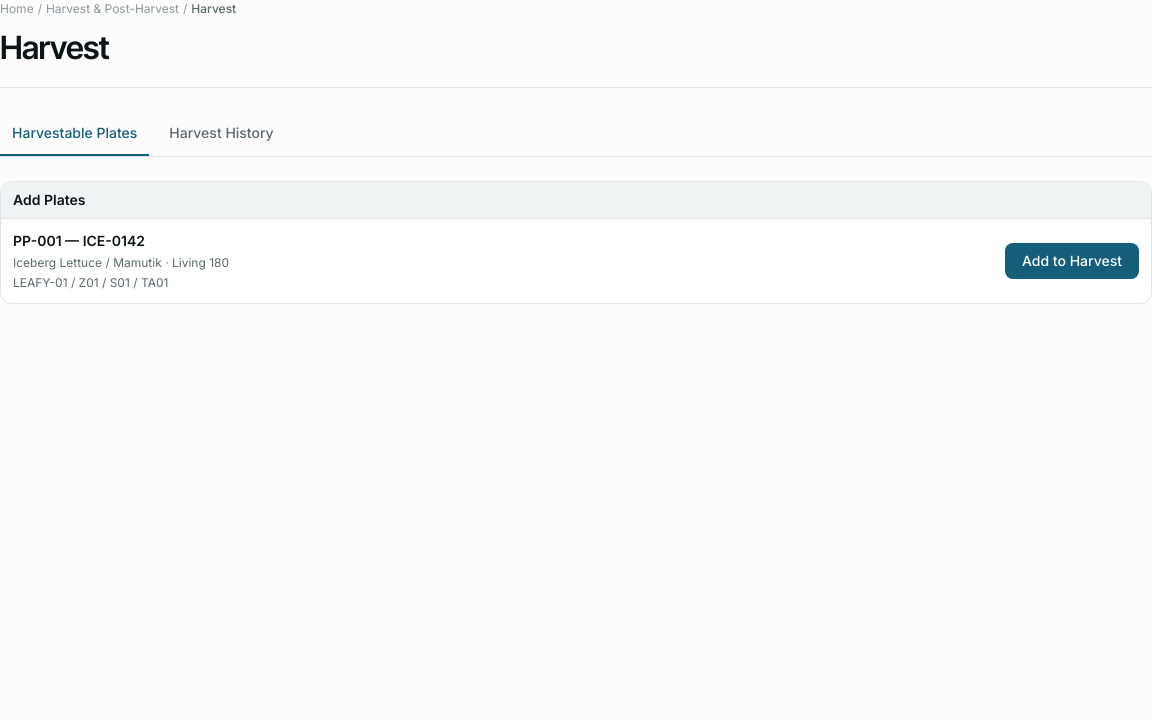
Test case: LeafyHarvestPage › shows the population-release wording without implying the Plate was moved
Expected: the text "PP-001 — ICE-0142" is shown, [13,232,145,249]
Click the button "Add to Harvest" at (1072, 261), box [1005,243,1139,279]
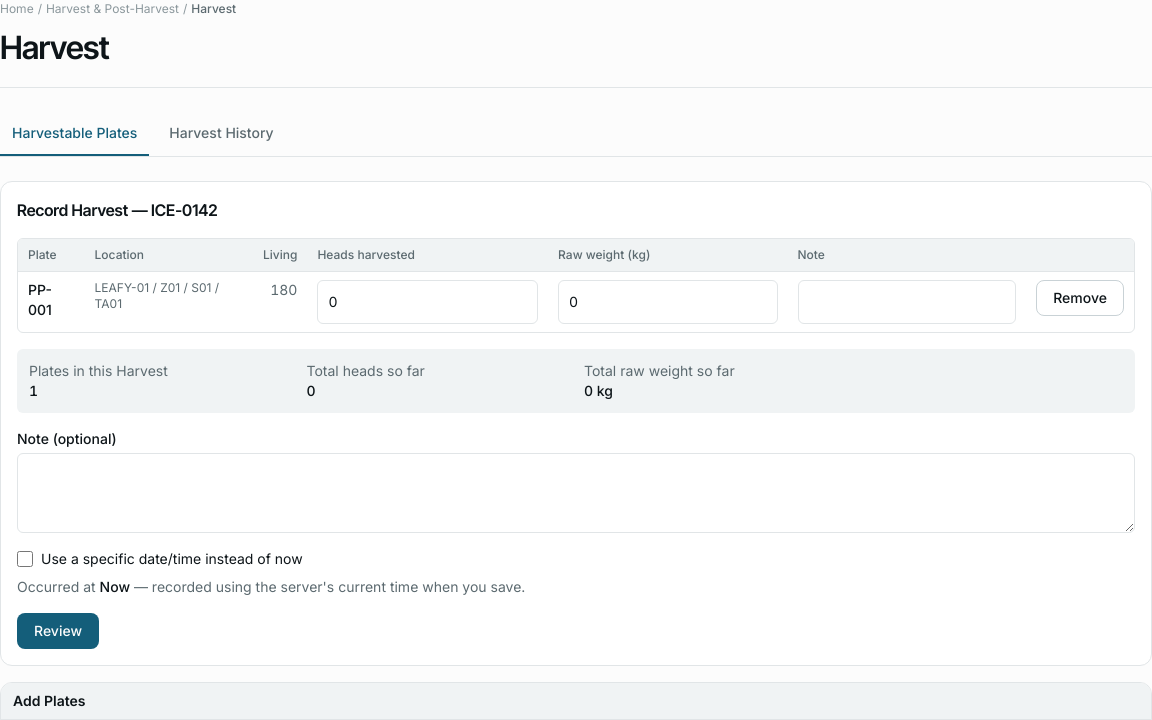
Expected: the number field named "heads harvested" is shown
Replace the text in the number field named "heads harvested" with "180" at (428, 302), box [317,280,538,324]
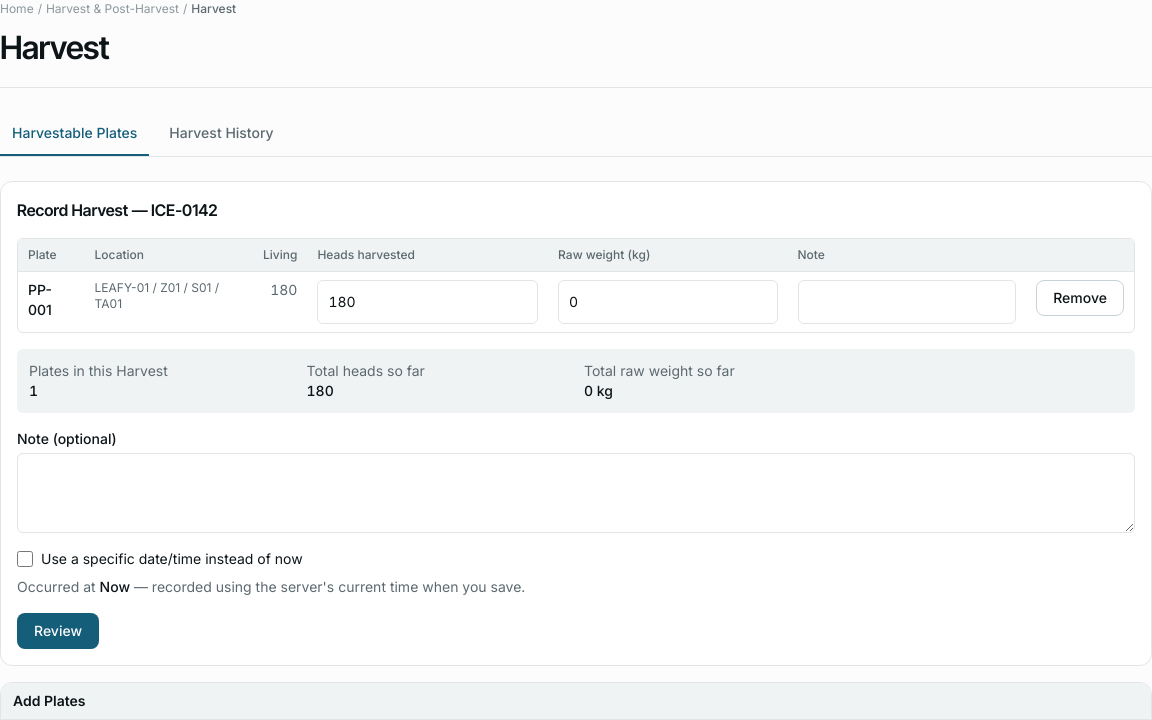
Replace the text in the number field named "raw harvested weight" with "90" at (668, 302), box [558,280,778,324]
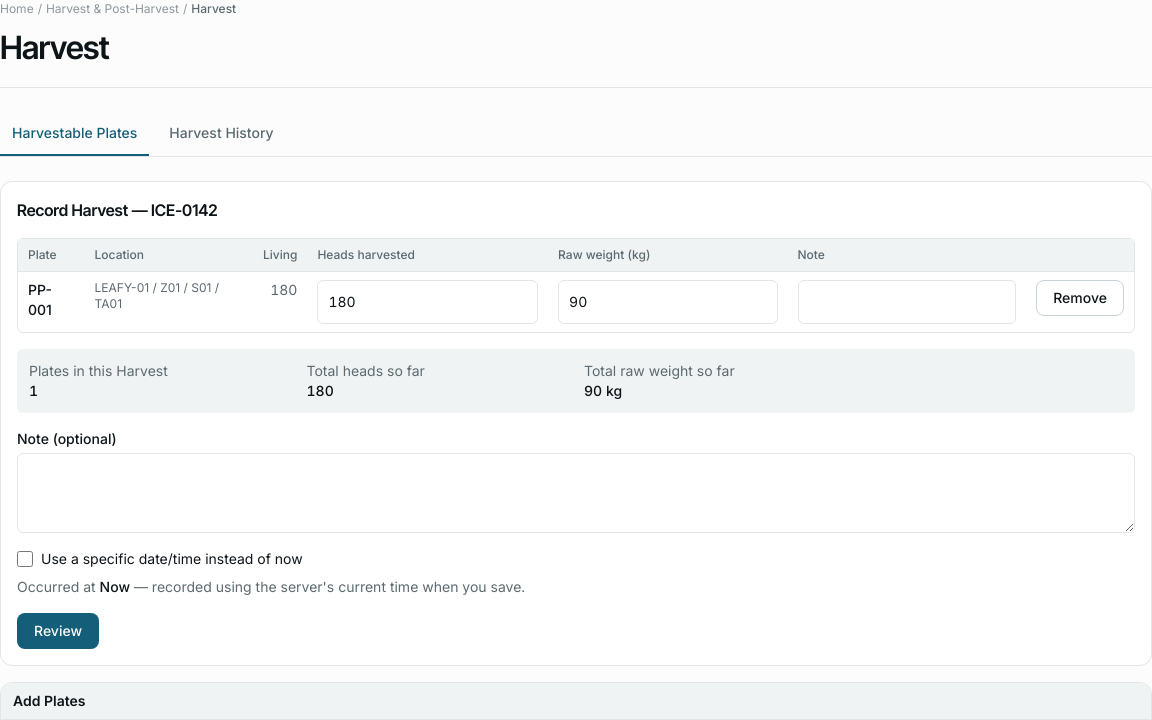
Click the button "Review" at (58, 631), box [17,613,99,649]
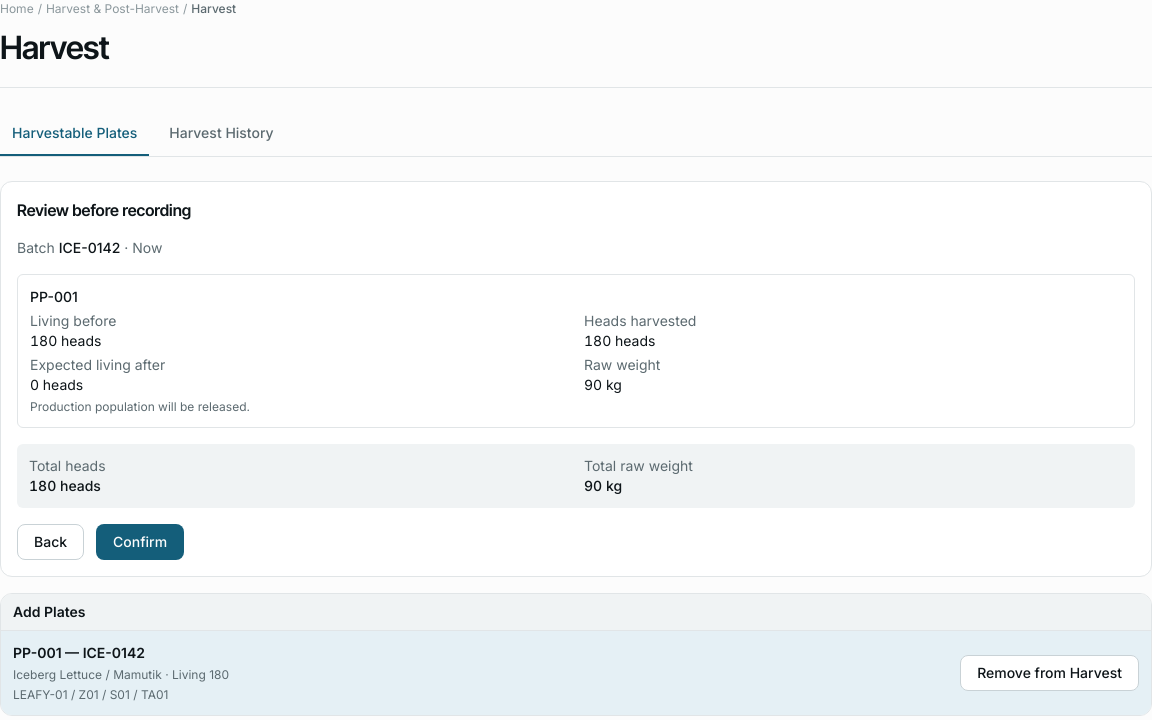
Expected: the text "Production population will be released." is shown, [30,399,250,414]
